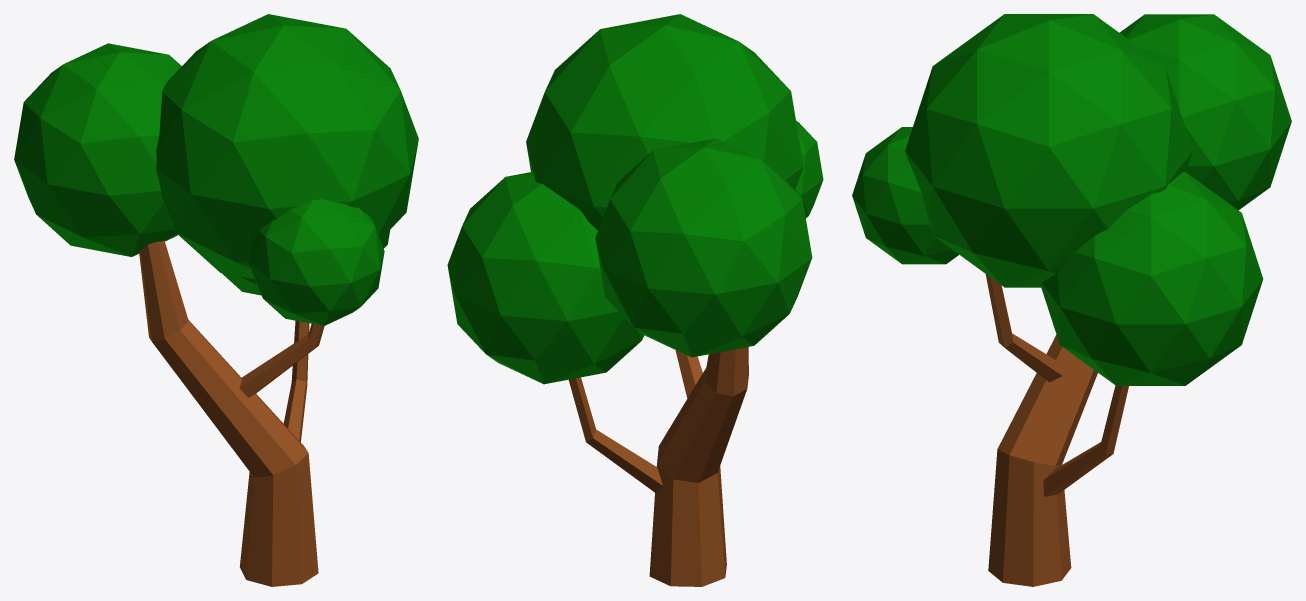
The model's file is tree2.fbx.
3 renders of one model, left to right at view 1: azimuth 30°, elevation 25°; view 2: azimuth 150°, elevation 25°; view 3: azimuth 270°, elevation 25°, orthographic. The views are drawn at different scales.
Parts seen in each view (by area): view 1: Tree.001; view 2: Tree.001; view 3: Tree.001.
Boxes of the visible parts, <box> form: Tree.001: <box>14,14,418,586</box>; Tree.001: <box>447,14,823,586</box>; Tree.001: <box>852,14,1291,586</box>.
Bounding box in the file's own units: 261 × 397 × 285.
